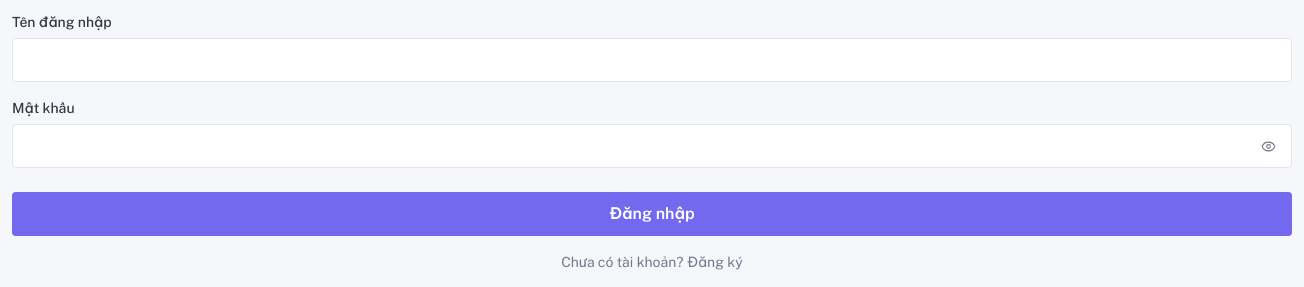
AuthForm › toggles password visibility when the eye button is clicked
Click the button named "Hiện mật khẩu" at (1268,146), box [1252,130,1284,162]
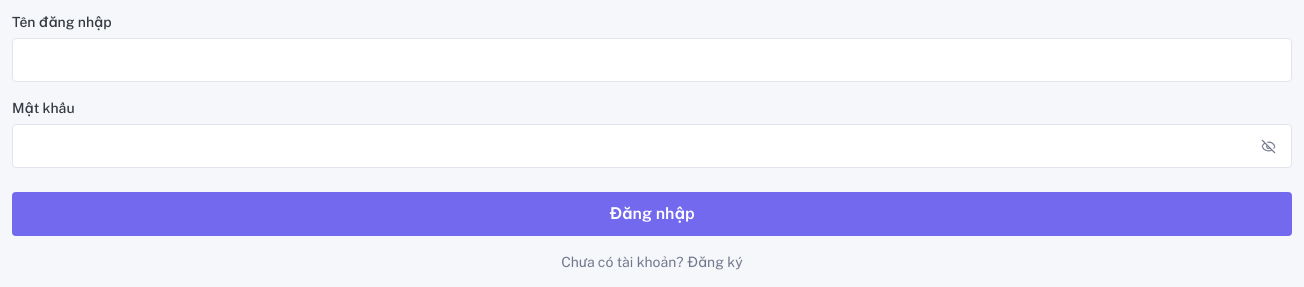
expect the button named "Ẩn mật khẩu" is shown: met
Click the button named "Ẩn mật khẩu" at (1268,146), box [1252,130,1284,162]
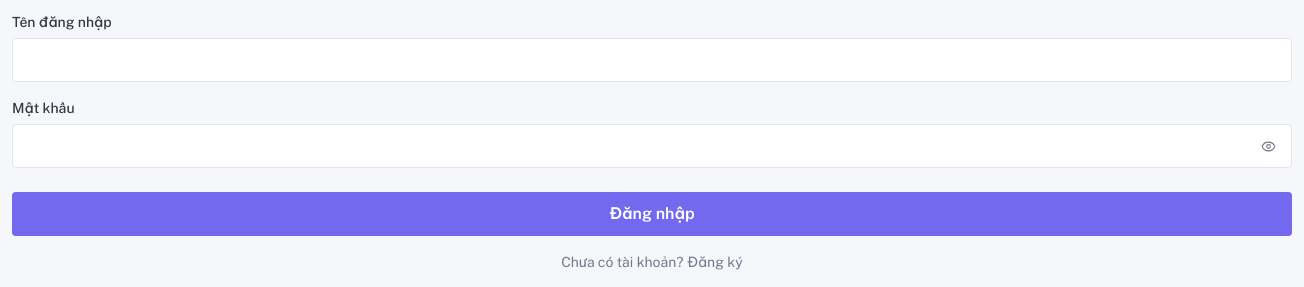
expect the button named "Hiện mật khẩu" is shown: met, box [1252,130,1284,162]
